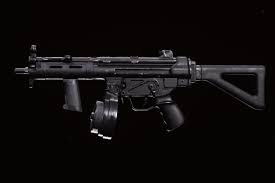gun: (11, 43, 266, 133)
